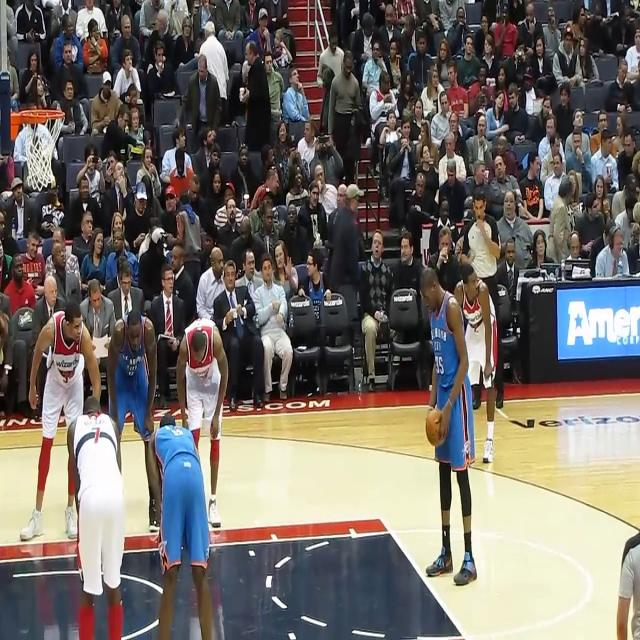ball: (425, 408, 445, 447)
